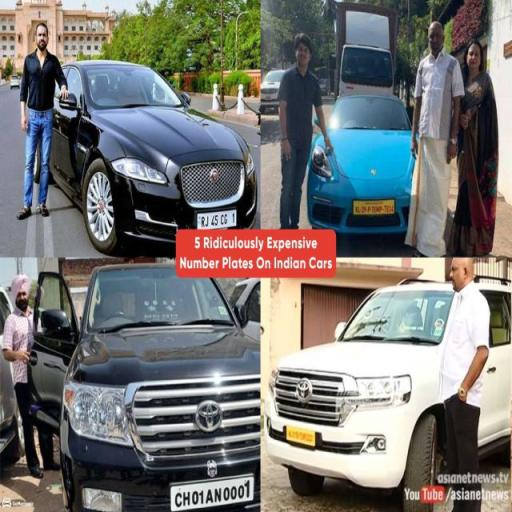number plate: (170, 474, 257, 508), (351, 194, 400, 218), (194, 210, 242, 228)
